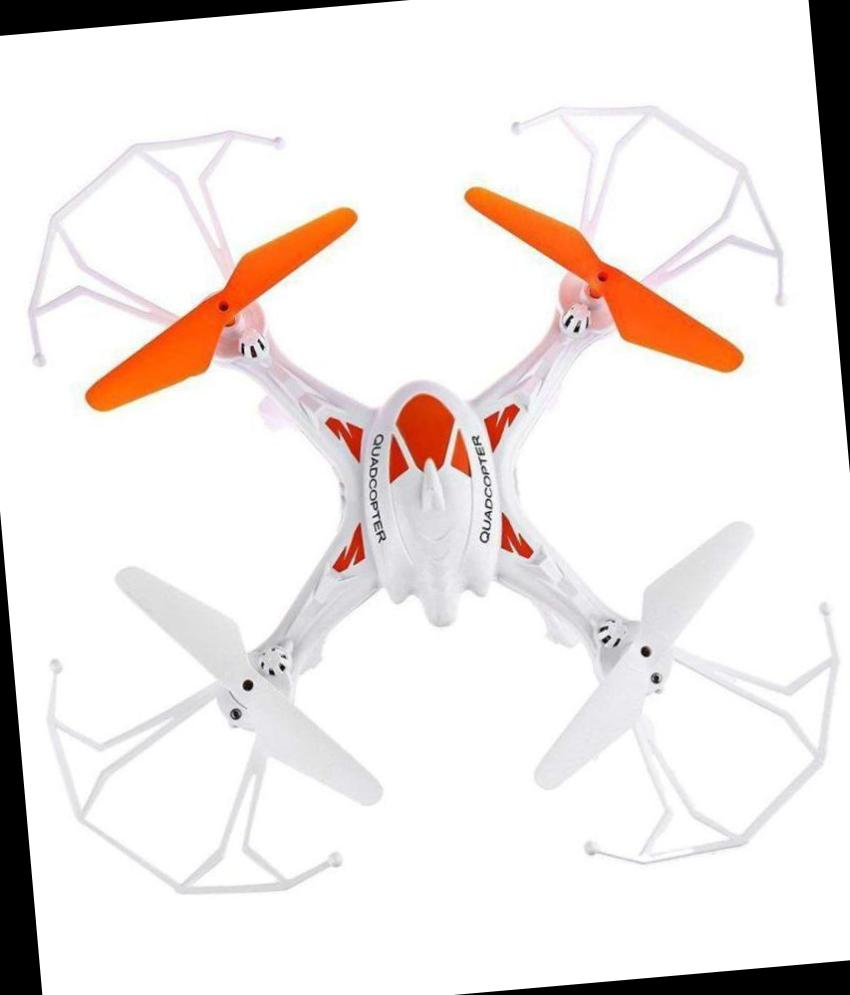drone: (4, 85, 850, 898)
